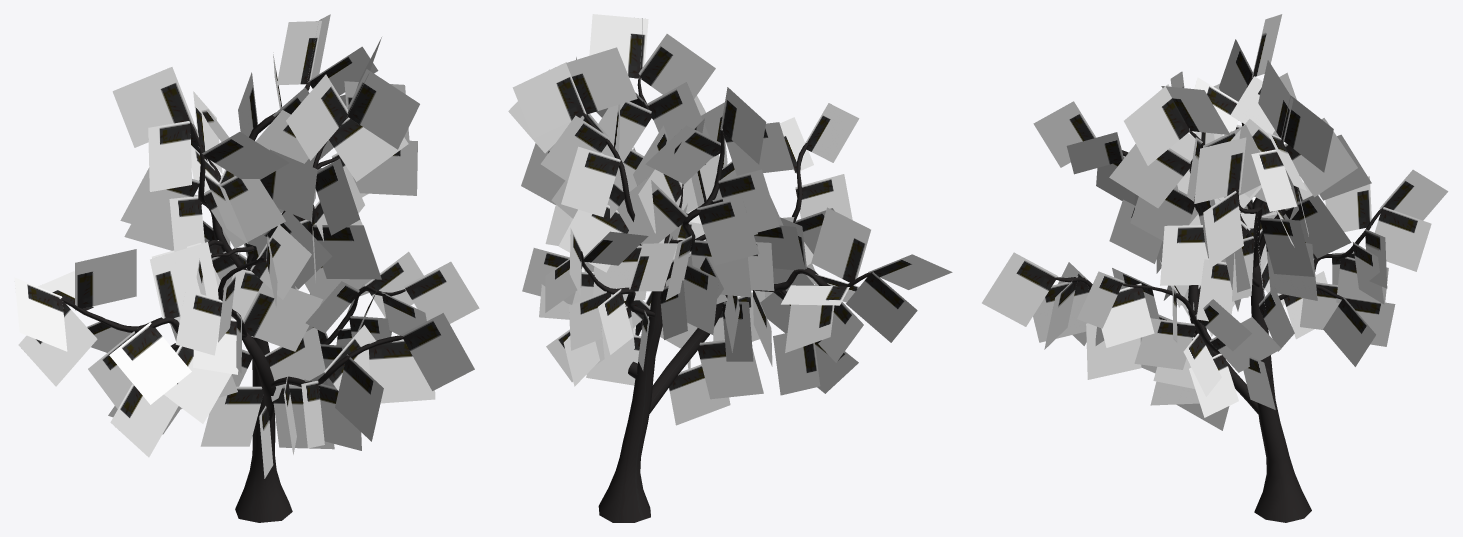
File: BurntTree.obj
3 views of the same model, side by side, from view 1: azimuth 30°, elevation 25°; view 2: azimuth 150°, elevation 25°; view 3: azimuth 270°, elevation 25° (orthographic). The views are drawn at different scales.
Visible parts, largest first — view 1: Burnt_Tree_02 Branches B7 pPlane18, Burnt_Tree_02 Branches B10 pPlane58, Main Burnt_Tree_02, Burnt_Tree_02 Branches B10 pPlane102, Burnt_Tree_02 Branches B8 pPlane7, Burnt_Tree_02 Branches B10 pPlane43, Burnt_Tree_02 Branches B9 pPlane3, Burnt_Tree_02 Branches B10 pPlane62, Burnt_Tree_02 Branches B7 pPlane83, Burnt_Tree_02 Branches B9 pPlane33, Burnt_Tree_02 Branches B8 pPlane91, Burnt_Tree_02 Branches B7 pPlane19 (+49 smaller); view 2: Main Burnt_Tree_02, Burnt_Tree_02 Branches B6 pPlane3, Burnt_Tree_02 Branches B6 pPlane93, Burnt_Tree_02 Branches B10 pPlane62, Burnt_Tree_02 Branches B7 pPlane58, Burnt_Tree_02 Branches B6 pPlane32, Burnt_Tree_02 Branches B8 pPlane91, Burnt_Tree_02 Branches B10 pPlane19, Burnt_Tree_02 Branches pPlane49 B10, Burnt_Tree_02 Branches B8 pPlane92, Burnt_Tree_02 Branches B7 pPlane62, Burnt_Tree_02 Branches B7 pPlane43 (+56 smaller); view 3: Main Burnt_Tree_02, Burnt_Tree_02 Branches B9 pPlane3, Burnt_Tree_02 Branches B8 pPlane7, Burnt_Tree_02 Branches B8 pPlane52, Burnt_Tree_02 Branches B8 pPlane54, Burnt_Tree_02 B4 Branches pPlane4, Burnt_Tree_02 Branches B13 pPlane19, Burnt_Tree_02 B4 Branches pPlane79, Burnt_Tree_02 Branches B12 pPlane53, Burnt_Tree_02 Branches B6 pPlane3, Burnt_Tree_02 Branches B12 pPlane78, Burnt_Tree_02 B4 Branches pPlane41 (+48 smaller).
Boxes of the visible parts, x1,y1,x2,y2 form: Burnt_Tree_02 Branches B7 pPlane18: (112, 67, 194, 147); Burnt_Tree_02 Branches B10 pPlane58: (109, 322, 191, 404); Main Burnt_Tree_02: (235, 337, 292, 522); Burnt_Tree_02 Branches B10 pPlane102: (243, 282, 322, 351); Burnt_Tree_02 Branches B8 pPlane7: (347, 69, 419, 149); Burnt_Tree_02 Branches B10 pPlane43: (150, 242, 218, 318); Burnt_Tree_02 Branches B9 pPlane3: (401, 313, 474, 390); Burnt_Tree_02 Branches B10 pPlane62: (75, 249, 136, 310); Burnt_Tree_02 Branches B7 pPlane83: (204, 176, 285, 248); Burnt_Tree_02 Branches B9 pPlane33: (368, 339, 435, 403); Burnt_Tree_02 Branches B8 pPlane91: (286, 74, 348, 160); Burnt_Tree_02 Branches B7 pPlane19: (148, 121, 191, 191); Main Burnt_Tree_02: (598, 282, 665, 522); Burnt_Tree_02 Branches B6 pPlane3: (512, 62, 586, 138); Burnt_Tree_02 Branches B6 pPlane93: (566, 47, 637, 114); Burnt_Tree_02 Branches B10 pPlane62: (811, 207, 870, 284); Burnt_Tree_02 Branches B7 pPlane58: (697, 196, 759, 265); Burnt_Tree_02 Branches B6 pPlane32: (561, 146, 620, 217); Burnt_Tree_02 Branches B8 pPlane91: (638, 34, 715, 98); Burnt_Tree_02 Branches B10 pPlane19: (846, 272, 917, 342); Burnt_Tree_02 Branches pPlane49 B10: (698, 340, 763, 399); Burnt_Tree_02 Branches B8 pPlane92: (589, 14, 648, 78); Burnt_Tree_02 Branches B7 pPlane62: (645, 125, 725, 184); Burnt_Tree_02 Branches B7 pPlane43: (617, 177, 687, 245); Main Burnt_Tree_02: (1250, 264, 1311, 522); Burnt_Tree_02 Branches B9 pPlane3: (982, 252, 1058, 326); Burnt_Tree_02 Branches B8 pPlane7: (1124, 84, 1189, 165); Burnt_Tree_02 Branches B8 pPlane52: (1109, 144, 1190, 208); Burnt_Tree_02 Branches B8 pPlane54: (1160, 225, 1209, 285); Burnt_Tree_02 B4 Branches pPlane4: (1194, 137, 1246, 203); Burnt_Tree_02 Branches B13 pPlane19: (1374, 207, 1431, 271); Burnt_Tree_02 B4 Branches pPlane79: (1260, 217, 1314, 276); Burnt_Tree_02 Branches B12 pPlane53: (1101, 283, 1154, 347); Burnt_Tree_02 Branches B6 pPlane3: (1281, 95, 1333, 172); Burnt_Tree_02 Branches B12 pPlane78: (1134, 318, 1195, 369); Burnt_Tree_02 B4 Branches pPlane41: (1203, 191, 1243, 267).
Size of the model in its own units: 17.36 by 19.28 by 17.73.
Materials: 2 (2 with a texture image).
